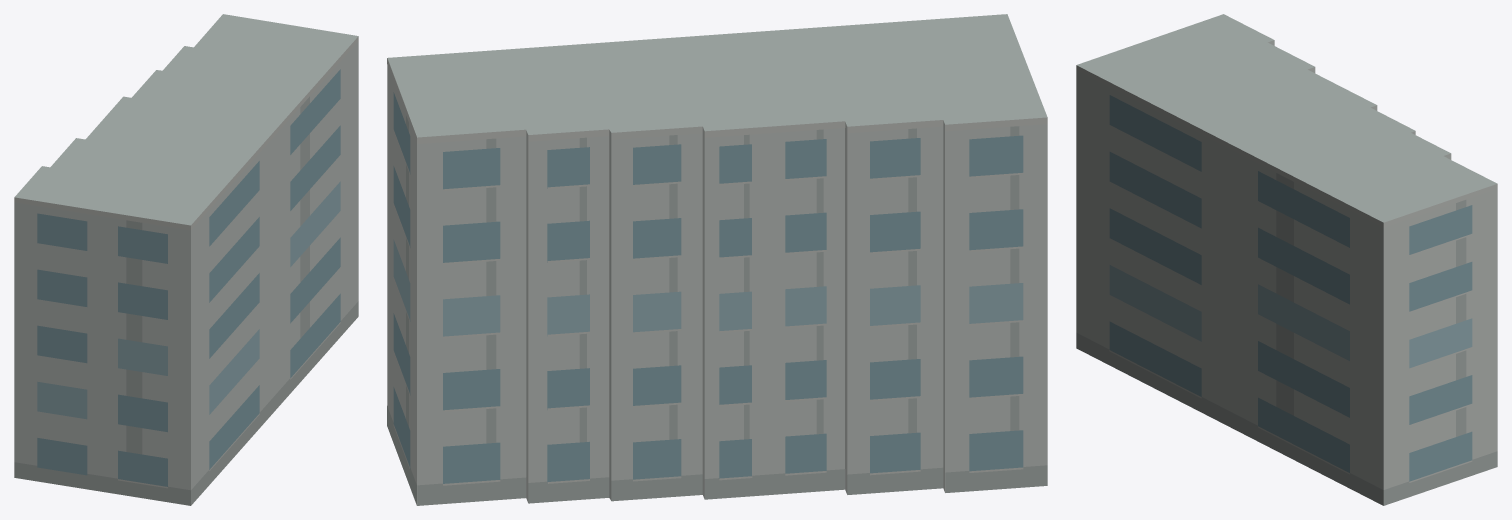
File: survey-upis-32724158.glb
3 renders of one model, left to right at view 1: azimuth 30°, elevation 25°; view 2: azimuth 150°, elevation 25°; view 3: azimuth 270°, elevation 25°, orthographic. The views are drawn at different scales.
Visible parts, largest first — view 1: survey-upis-32724158.tmp; view 2: survey-upis-32724158.tmp; view 3: survey-upis-32724158.tmp.
Part boxes in pixels (<box>): survey-upis-32724158.tmp: <box>14,14,358,505</box>; survey-upis-32724158.tmp: <box>387,14,1047,505</box>; survey-upis-32724158.tmp: <box>1076,14,1497,505</box>.
Bounding box in the file's own units: 21.19 × 13.4 × 18.08.
